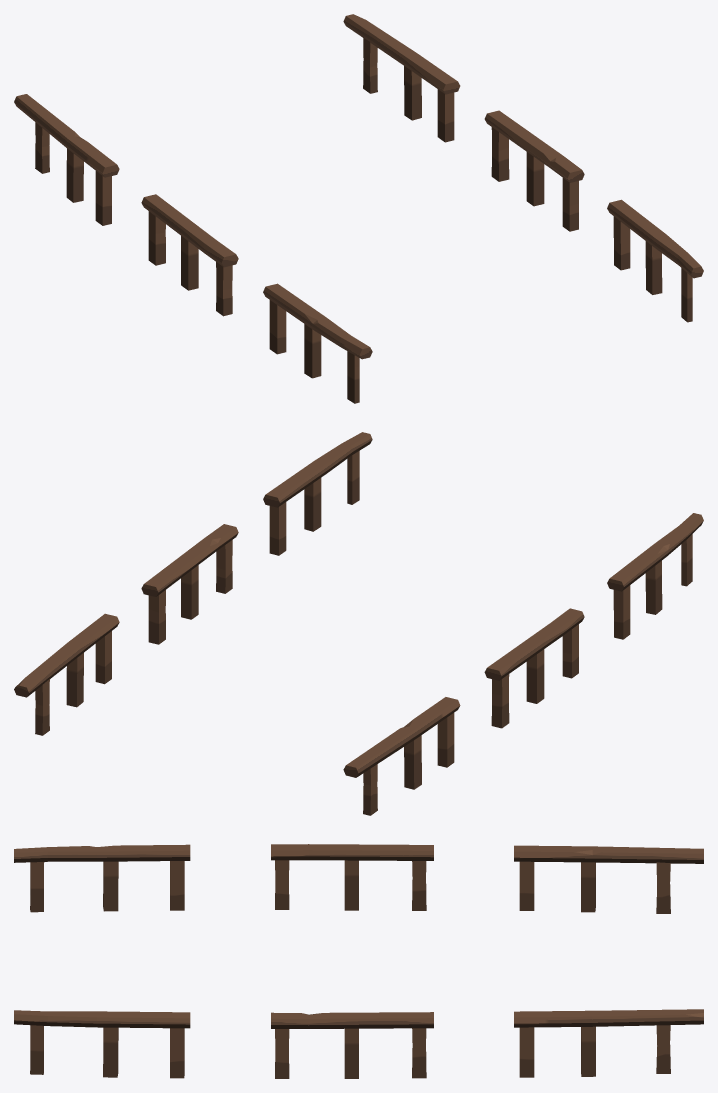
Rendered from SM_Veh_Ship_M_Middle_03.fbx.
The picture shows the model from 3 angles, top to bottom: view 1: azimuth 30°, elevation 25°; view 2: azimuth 150°, elevation 25°; view 3: azimuth 270°, elevation 25°; orthographic projection.
Visible parts, largest first — view 1: SM_Veh_Ship_M_Middle_03; view 2: SM_Veh_Ship_M_Middle_03; view 3: SM_Veh_Ship_M_Middle_03.
Part boxes in pixels (x1,y1,x2,y2): SM_Veh_Ship_M_Middle_03: (14,14,703,403); SM_Veh_Ship_M_Middle_03: (14,432,703,815); SM_Veh_Ship_M_Middle_03: (14,844,703,1078).
Size of the model in its own units: 694 by 111 by 1142.
